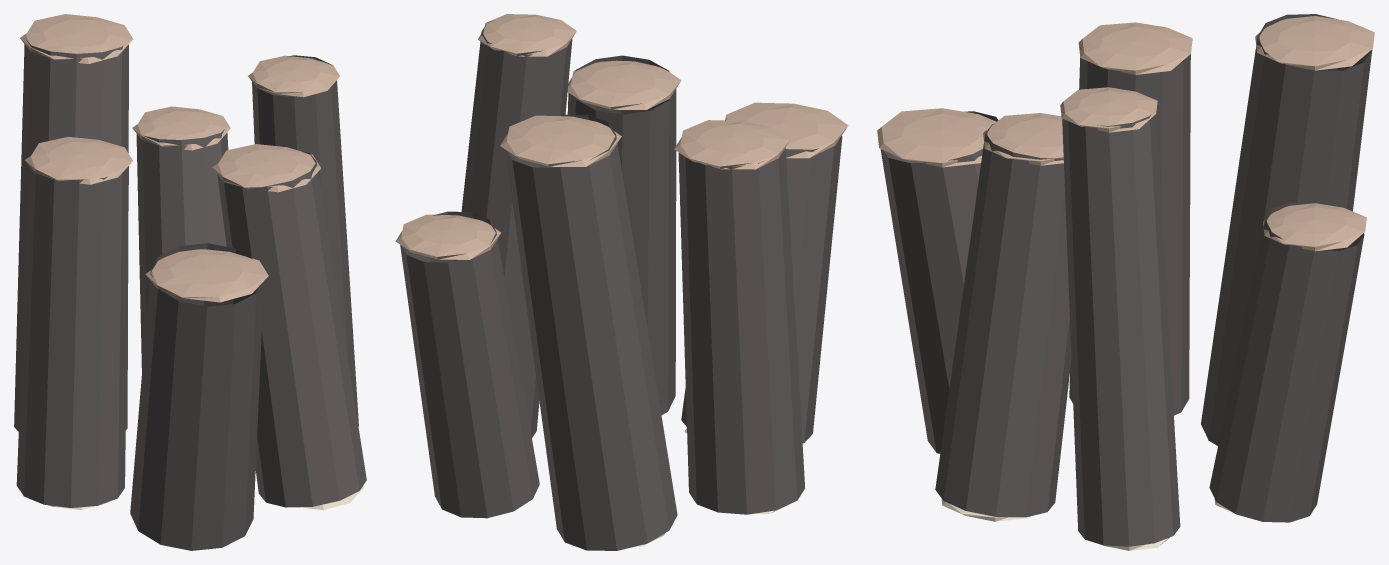
Rendered from ebony.glb.
The picture shows the model from 3 angles, left to right: view 1: azimuth 30°, elevation 25°; view 2: azimuth 150°, elevation 25°; view 3: azimuth 270°, elevation 25°; orthographic projection. The views are drawn at different scales.
Visible parts, largest first — view 1: ebony; view 2: ebony; view 3: ebony.
Boxes of the visible parts, left/top/right/bottom form: ebony: left=14, top=14, right=366, bottom=550; ebony: left=395, top=14, right=848, bottom=550; ebony: left=877, top=14, right=1374, bottom=550.
Bounding box in the file's own units: 0.7608 × 0.8418 × 0.9007.
